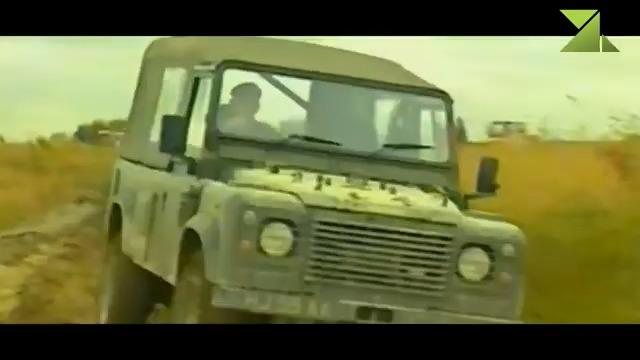MIL_HMMWV: (96, 36, 525, 325)
